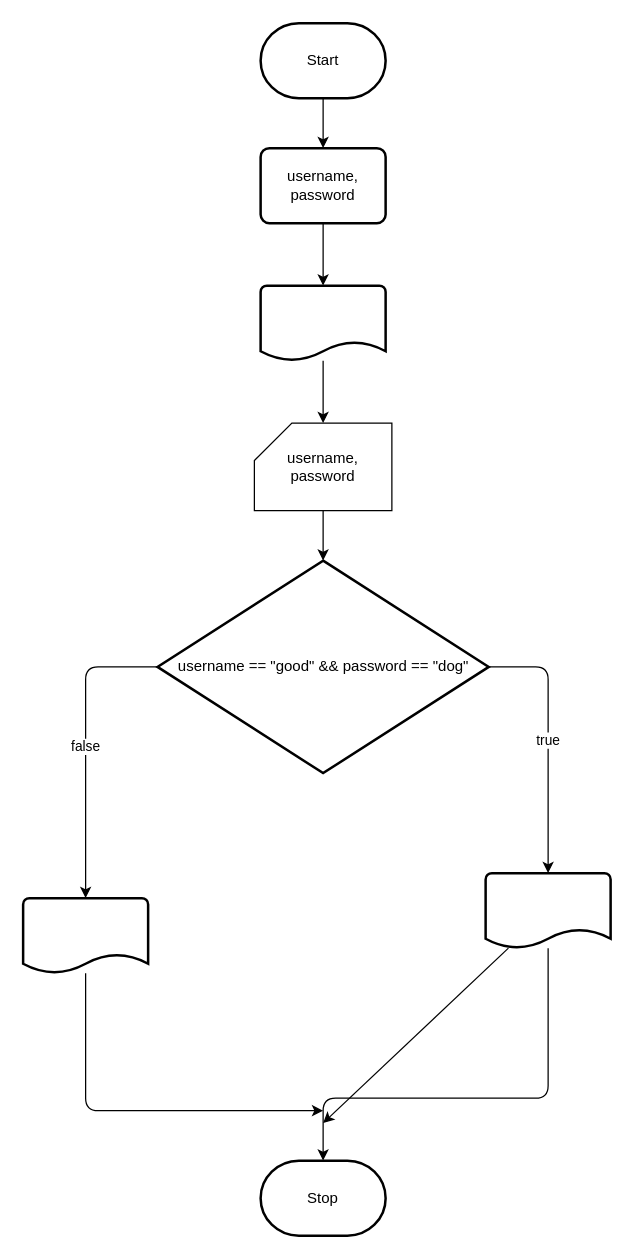
The diagram is 633 pixels wide and 1258 high, and some of its shapes have lost their labels. Each missing label, with the box of its shape:
"Enter username and password:": (259, 284, 386, 361)
"Error": (21, 896, 149, 974)
"Welcome": (484, 871, 611, 949)
